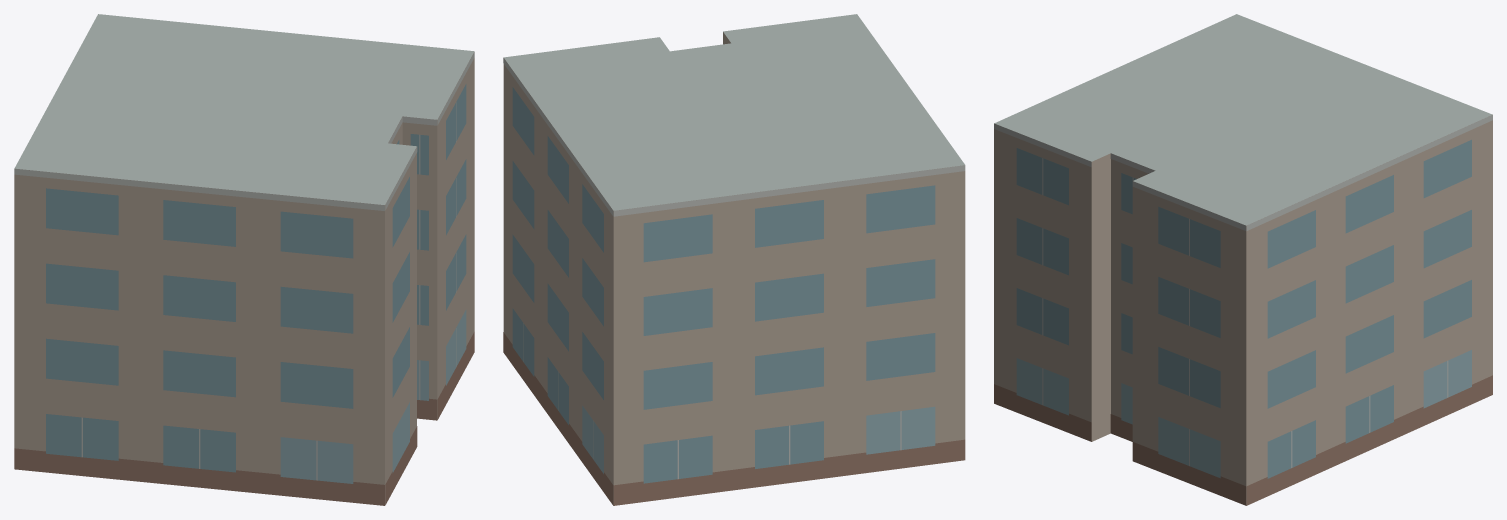
Rendered from survey-upis-32802838.glb.
3 views of the same model, side by side, from view 1: azimuth 30°, elevation 25°; view 2: azimuth 150°, elevation 25°; view 3: azimuth 270°, elevation 25° (orthographic). The views are drawn at different scales.
Parts seen in each view (by area): view 1: survey-upis-32802838.tmp; view 2: survey-upis-32802838.tmp; view 3: survey-upis-32802838.tmp.
Part boxes in pixels (left/top/right/bottom): survey-upis-32802838.tmp: left=14, top=14, right=474, bottom=505; survey-upis-32802838.tmp: left=503, top=14, right=965, bottom=505; survey-upis-32802838.tmp: left=994, top=14, right=1492, bottom=505.
Bounding box in the file's own units: 19.77 × 12.2 × 19.69.
